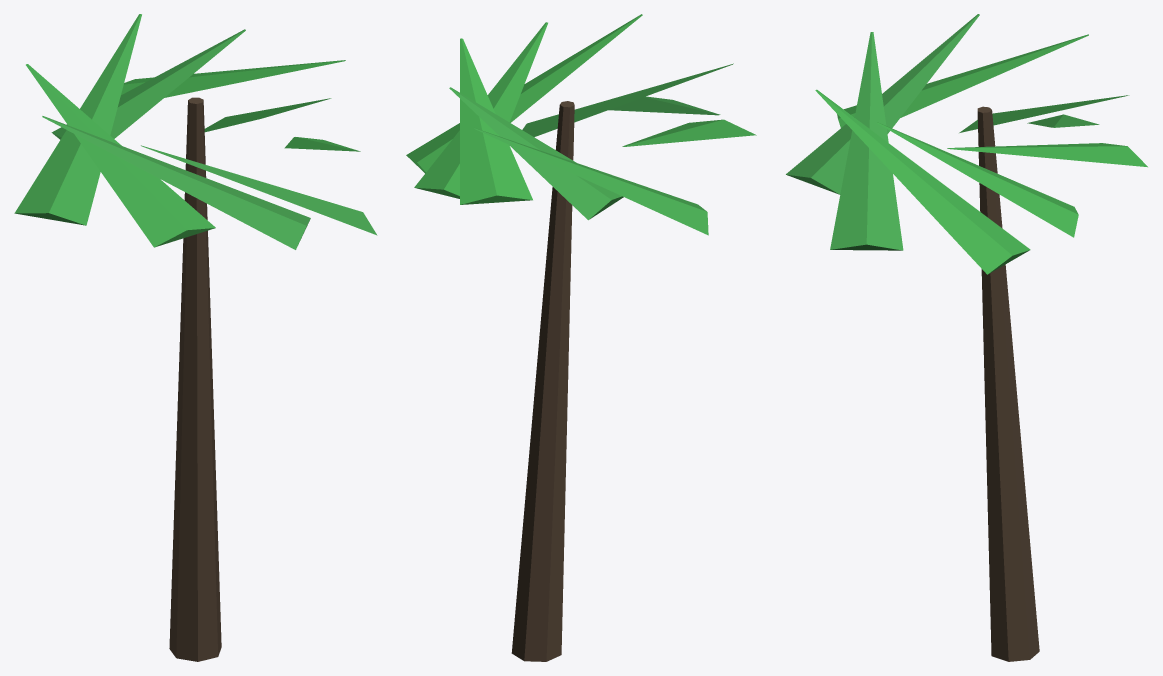
File: tree_palm_12.glb
3 renders of one model, left to right at view 1: azimuth 30°, elevation 25°; view 2: azimuth 150°, elevation 25°; view 3: azimuth 270°, elevation 25°, orthographic. The views are drawn at different scales.
Visible parts, largest first — view 1: Trunk, Cone.003, Cone.004, Cone.005, Cone.002, Cone.006, Cone.001, Cone, Cone.007; view 2: Trunk, Cone.001, Cone.002, Cone, Cone.003, Cone.007, Cone.004, Cone.006, Cone.005; view 3: Trunk, Cone.006, Cone.007, Cone.005, Cone, Cone.004, Cone.001, Cone.003, Cone.002.
Part boxes in pixels (x1,y1,x2,y2): Trunk: (169,97,221,661); Cone.003: (14,14,141,225); Cone.004: (26,64,215,247); Cone.005: (42,116,310,249); Cone.002: (51,29,245,139); Cone.006: (141,145,377,235); Cone.001: (121,60,345,97); Cone: (204,98,331,132); Cone.007: (284,137,360,151); Trunk: (511,101,574,661); Cone.001: (460,38,532,204); Cone.002: (449,87,623,220); Cone: (414,22,547,198); Cone.003: (474,128,708,235); Cone.007: (406,14,642,173); Cone.004: (622,119,756,146); Cone.006: (522,63,733,137); Cone.005: (608,96,720,115); Trunk: (977,106,1039,661); Cone.006: (830,32,903,250); Cone.007: (815,89,1030,274); Cone.005: (786,14,979,194); Cone: (877,122,1078,237); Cone.004: (837,34,1088,127); Cone.001: (947,143,1147,167); Cone.003: (959,95,1129,132); Cone.002: (1027,114,1099,127).
Bounding box in the file's own units: 4.27 × 7.28 × 4.28.
